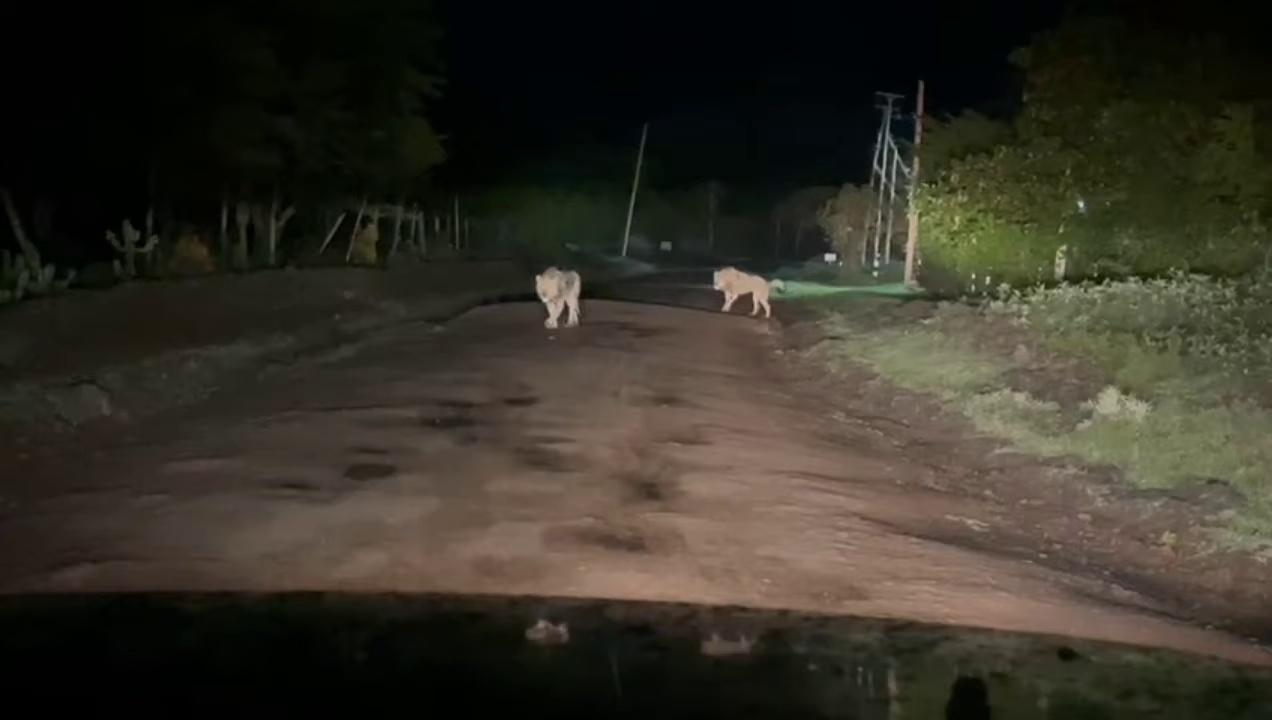lions: (705, 260, 792, 369), (518, 243, 585, 368)
